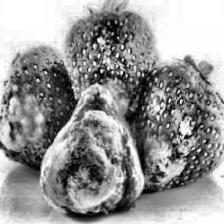Gray Mold: (39, 83, 145, 216), (70, 27, 136, 120), (132, 112, 208, 192), (0, 64, 59, 163)
